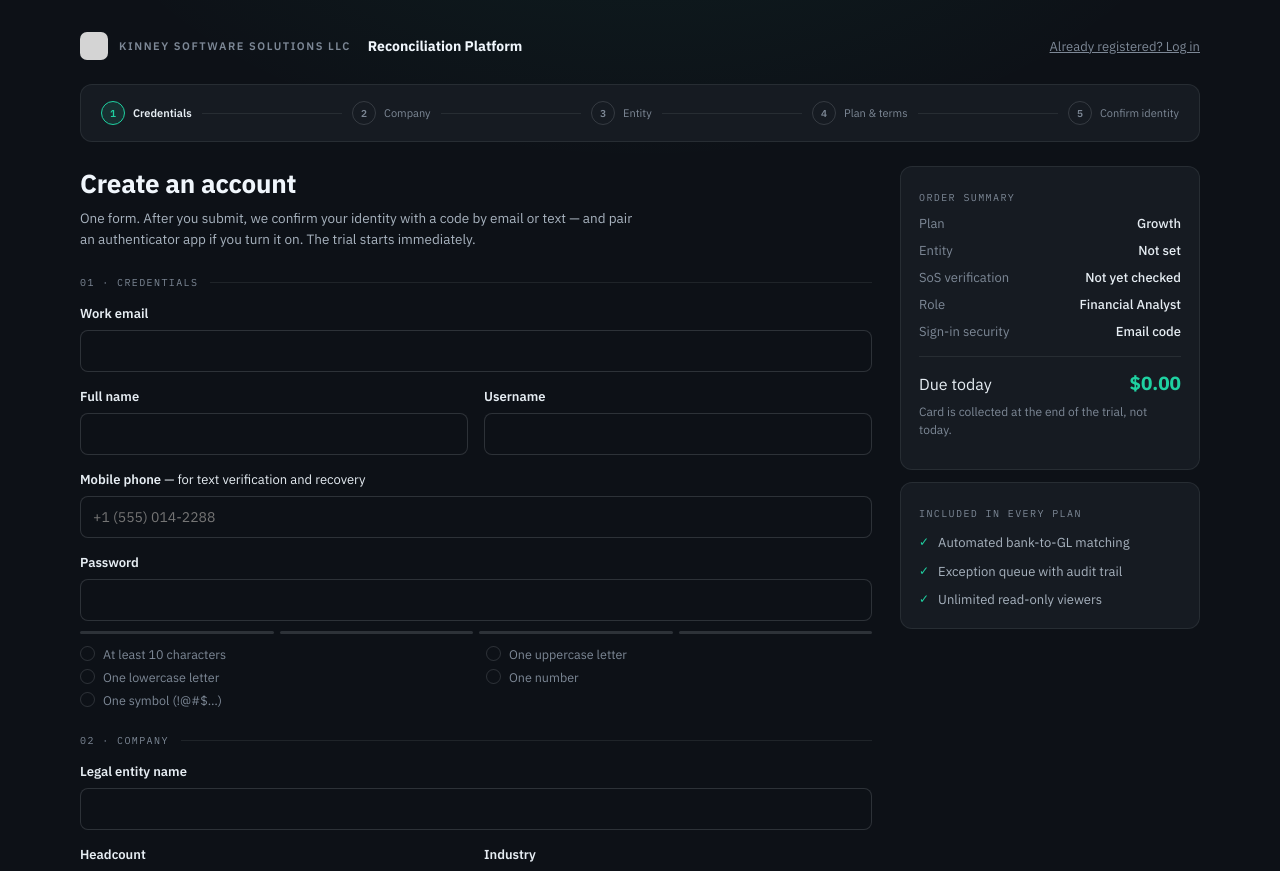
Test case: field validation notes › shows nothing for an empty email, an error for an invalid one, and ok for a valid one
The image size is (1280, 871).
Type "not-an-email" into the field labelled "Work email" at (476, 351), box x1=80 y1=330 x2=872 y2=372
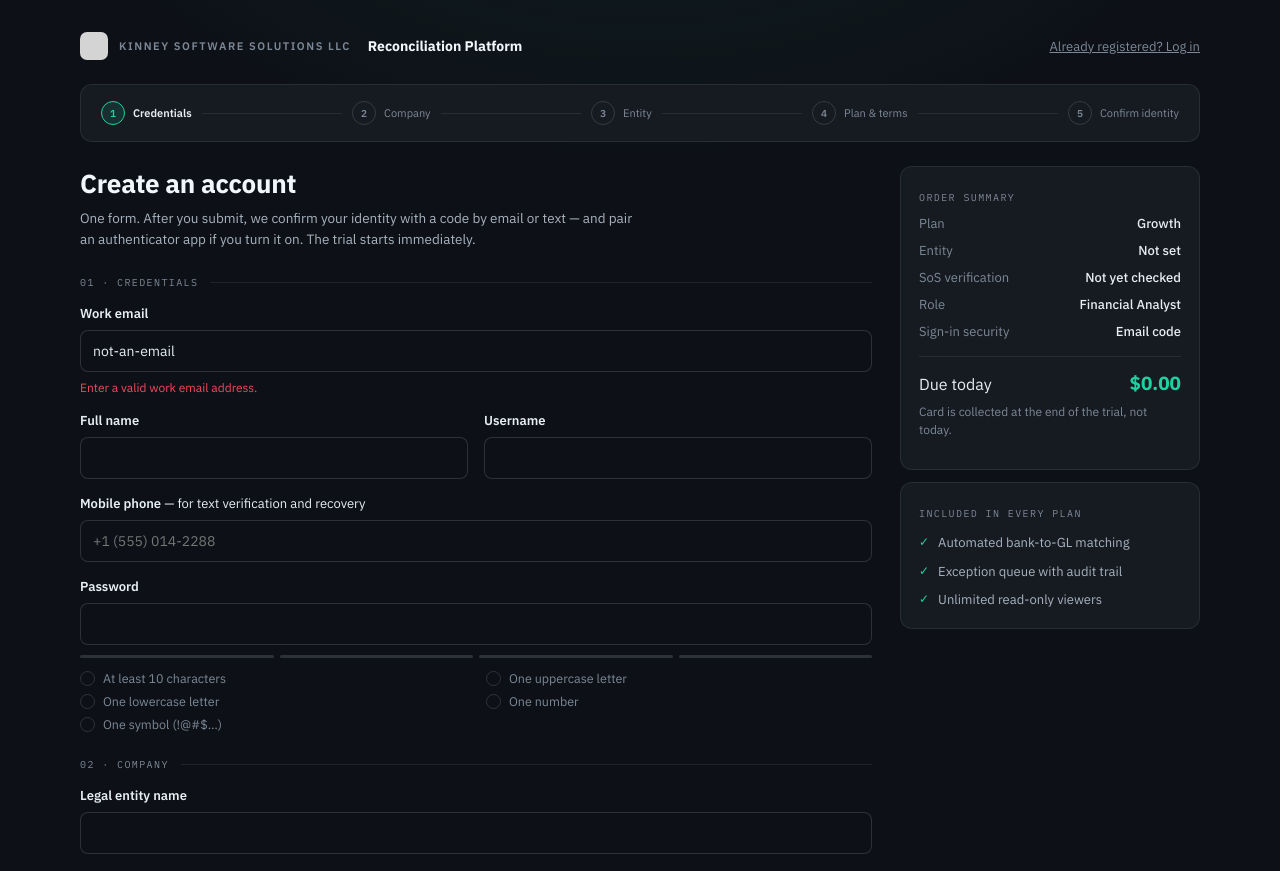
Now the text "Enter a valid work email address." is shown, box x1=80 y1=380 x2=257 y2=395
Replace the text in the field labelled "Work email" with "analyst@example.com" at (476, 351), box x1=80 y1=330 x2=872 y2=372
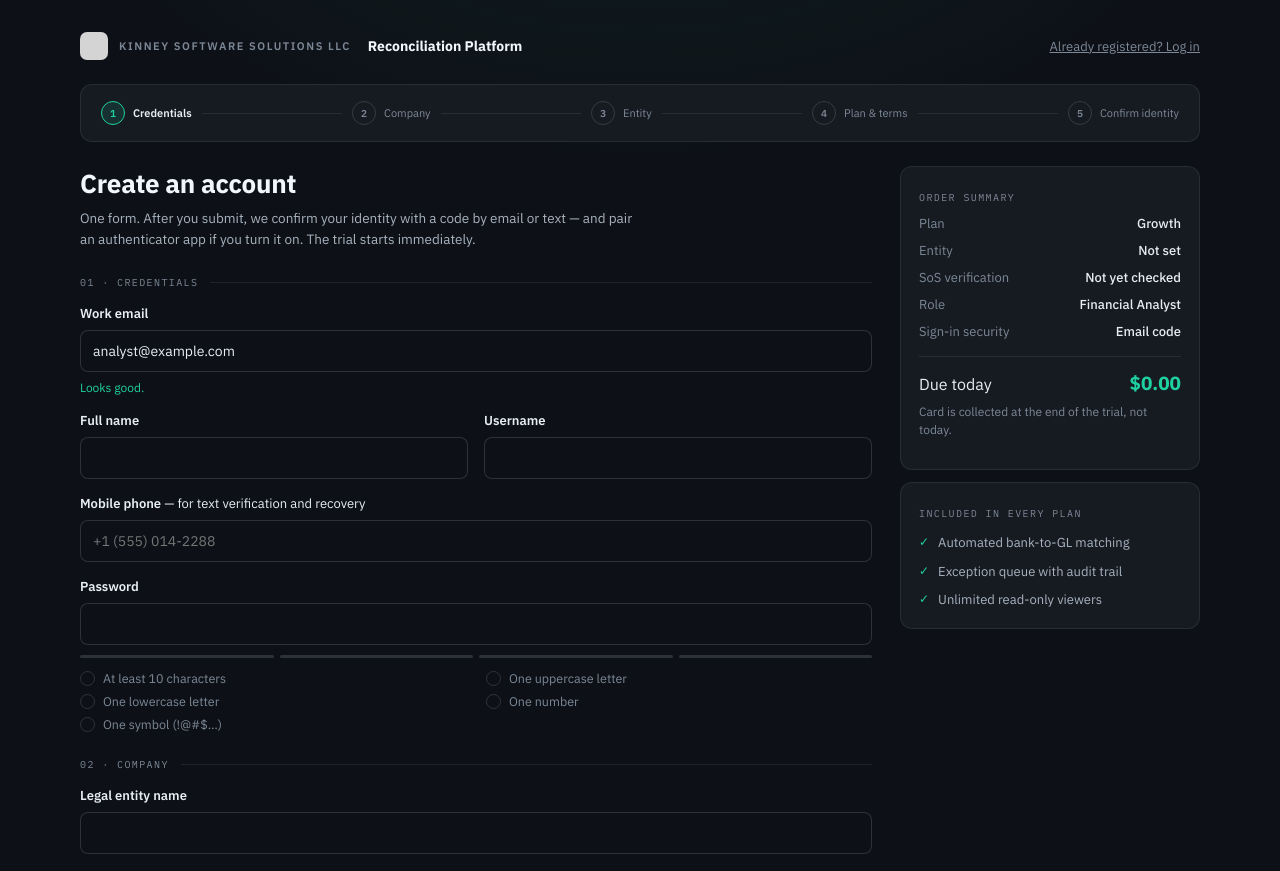
Now the text "Looks good." is shown, box x1=80 y1=380 x2=144 y2=395
Clear the field labelled "Work email" at (476, 351), box x1=80 y1=330 x2=872 y2=372
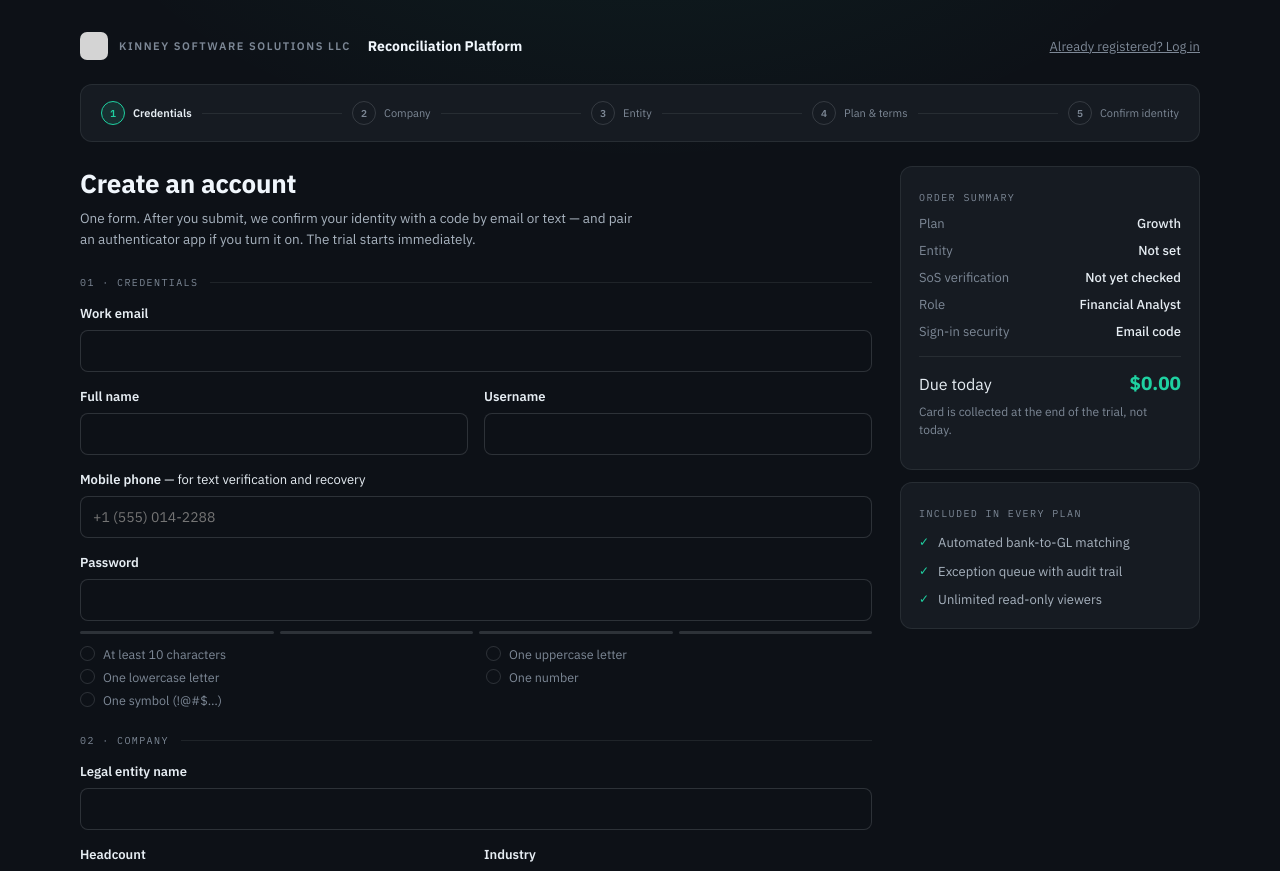
Now the text "Looks good." is gone
